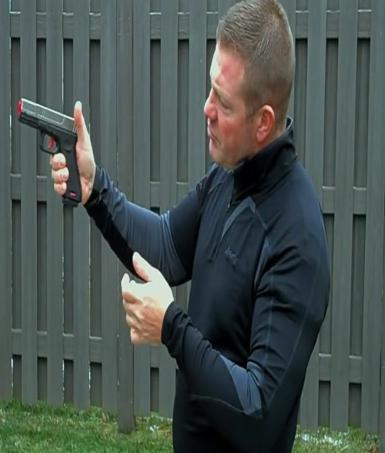pistol: (14, 95, 89, 203)
